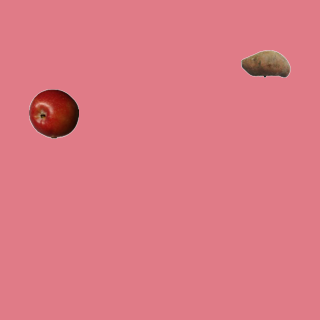Apple Braeburn: (28, 88, 78, 138)
Potato Sweet: (240, 38, 290, 88)
